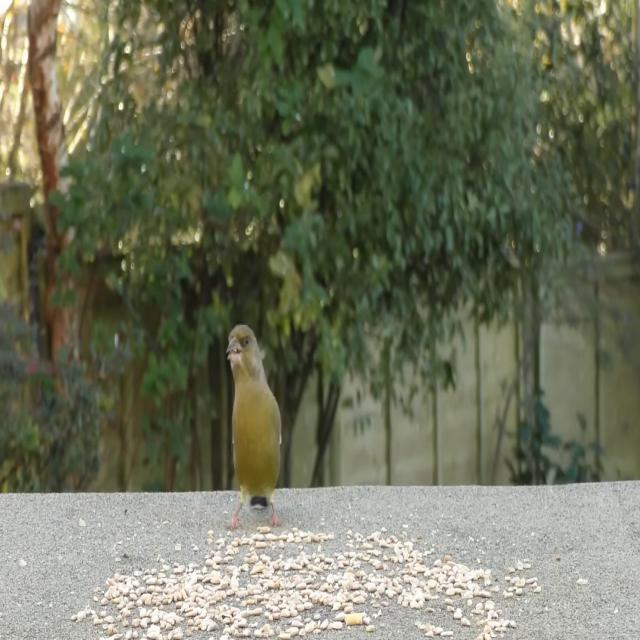beak: (223, 338, 240, 364)
bird: (222, 318, 284, 534)
